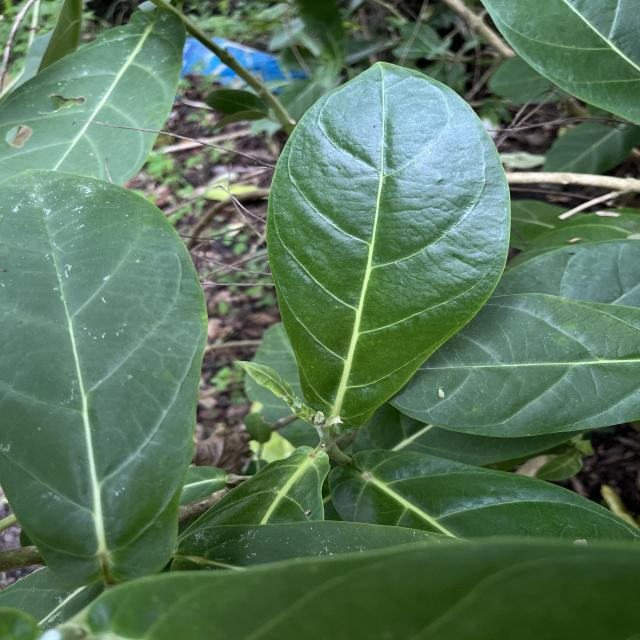Calotropis gigantea: (262, 57, 515, 425), (0, 166, 212, 588), (387, 288, 640, 441)
